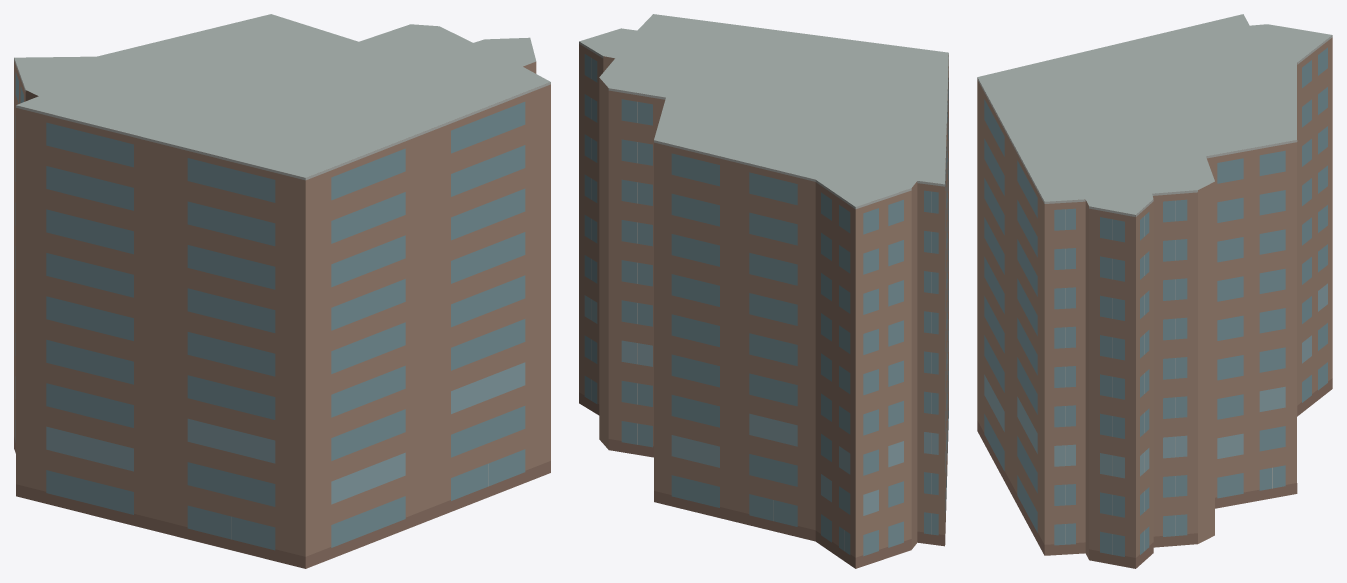
The model's file is residential-75df11f6-a66d-4232-9d21-e662ad3b5f12.glb.
The picture shows the model from 3 angles, left to right: view 1: azimuth 30°, elevation 25°; view 2: azimuth 150°, elevation 25°; view 3: azimuth 270°, elevation 25°; orthographic projection. The views are drawn at different scales.
Visible parts, largest first — view 1: residential-75df11f6-a66d-4232-9d21-e662ad3b5f12.tmp; view 2: residential-75df11f6-a66d-4232-9d21-e662ad3b5f12.tmp; view 3: residential-75df11f6-a66d-4232-9d21-e662ad3b5f12.tmp.
Boxes of the visible parts, <box> form: residential-75df11f6-a66d-4232-9d21-e662ad3b5f12.tmp: <box>14,14,550,568</box>; residential-75df11f6-a66d-4232-9d21-e662ad3b5f12.tmp: <box>579,14,948,568</box>; residential-75df11f6-a66d-4232-9d21-e662ad3b5f12.tmp: <box>977,14,1332,568</box>.
Bounding box in the file's own units: 46.15 × 37.9 × 34.48.
